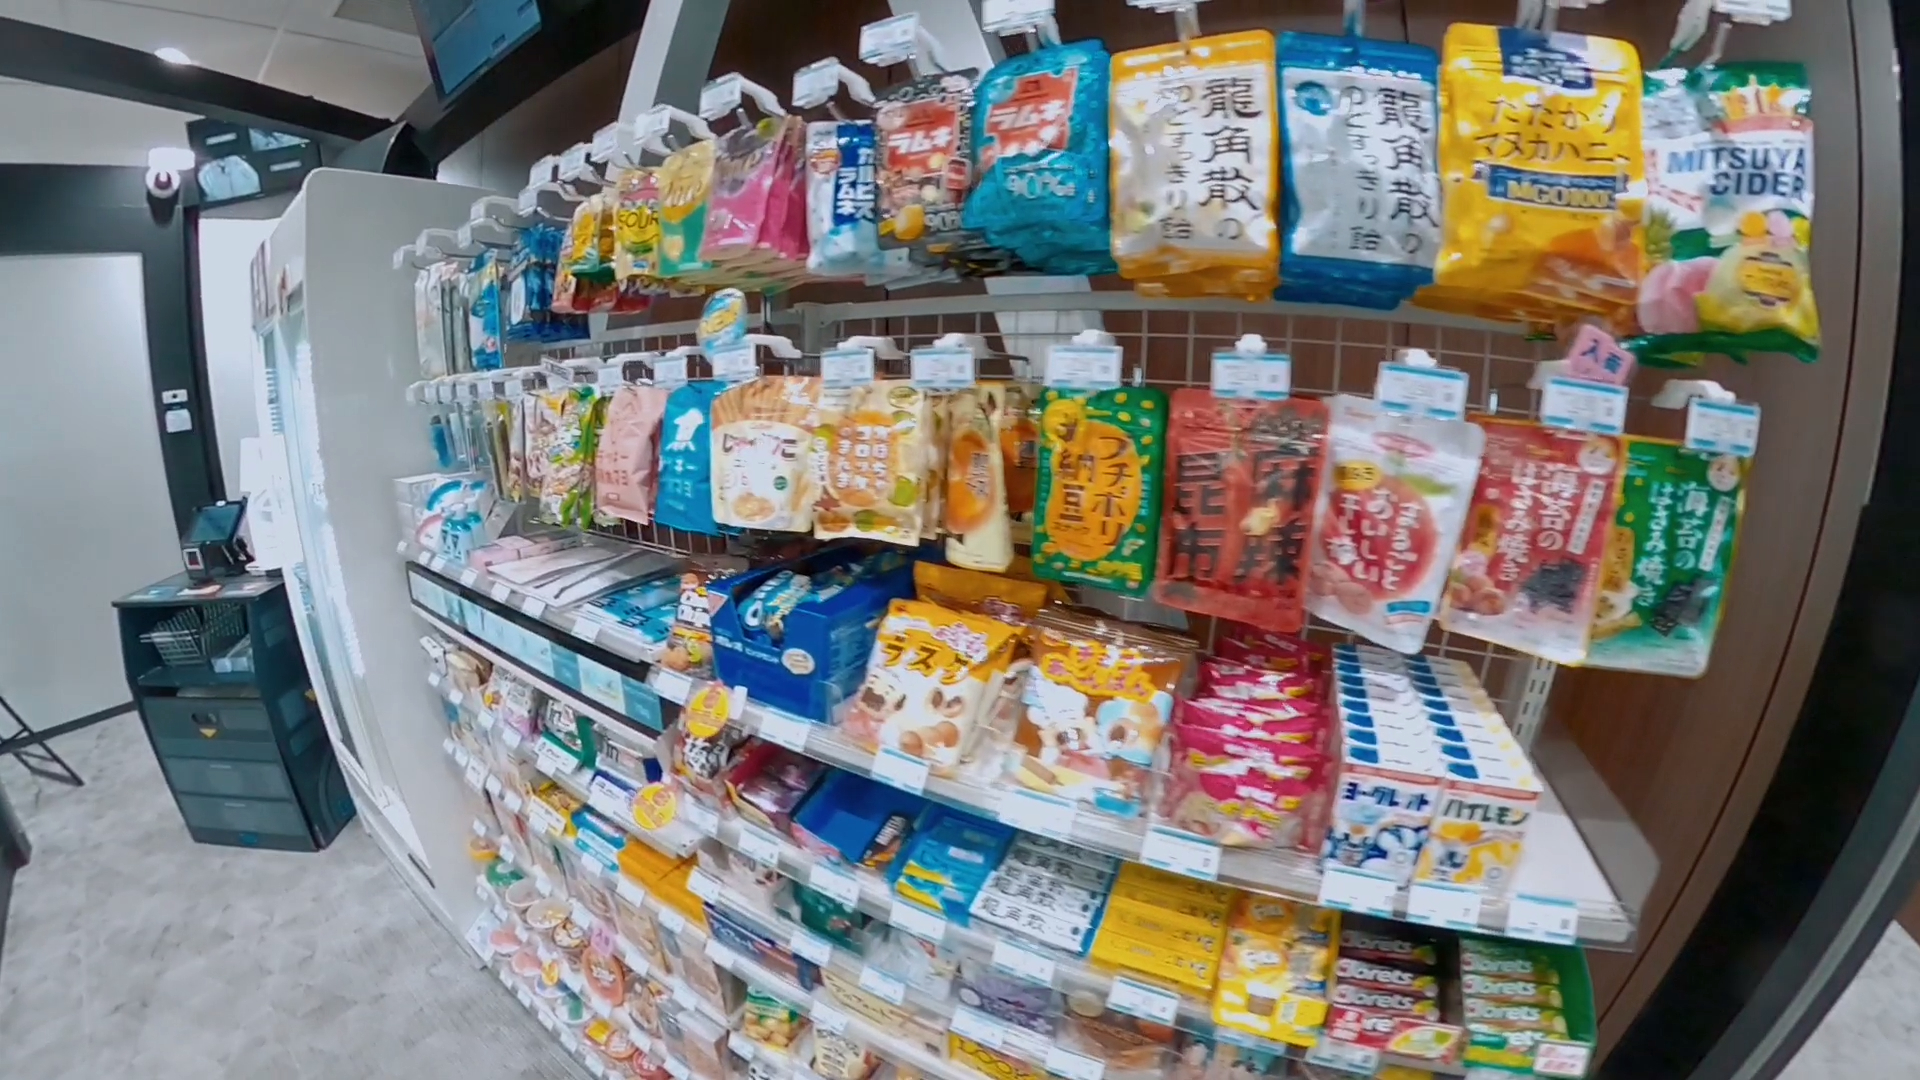NorinoHasamiyaki: (1592, 438, 1749, 680)
